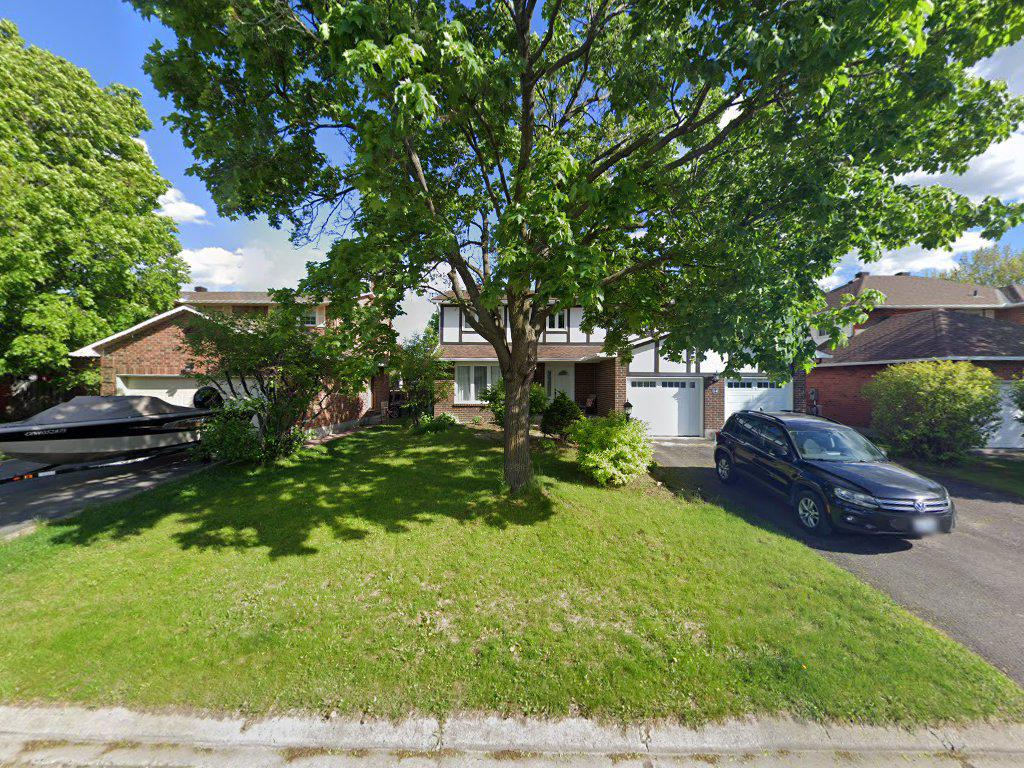trunk: (489, 293, 543, 515)
